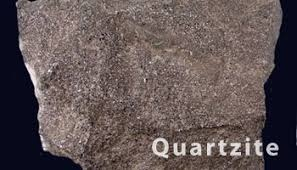obstacle: (17, 1, 280, 168)
